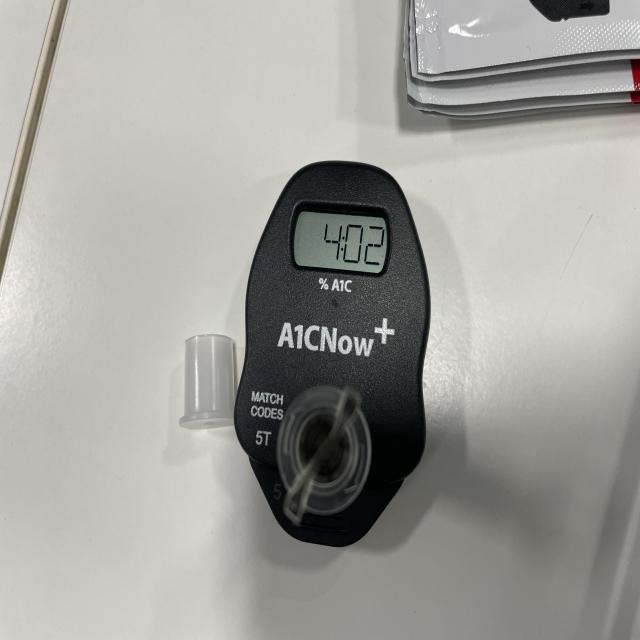hba1c: (232, 161, 431, 551)
